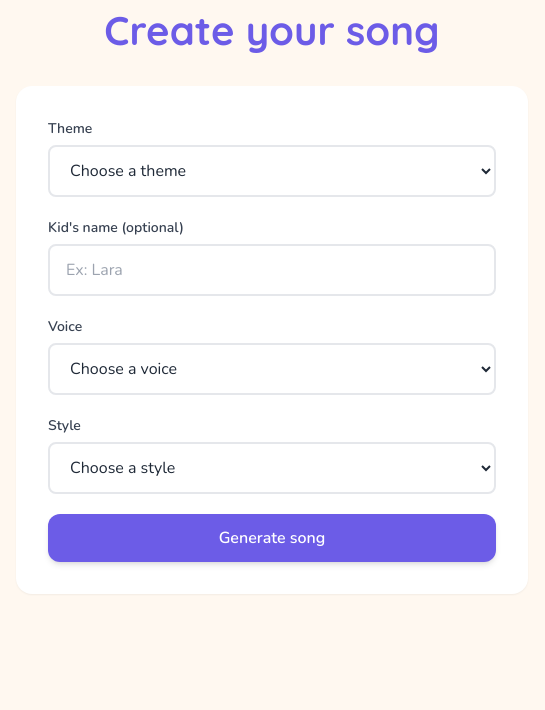
Test case: CreatePage › shows custom keyword input when theme is Custom
Step 1. Select "Custom" in the dropdown labelled "Theme" → (272, 171), box x1=48 y1=145 x2=496 y2=197
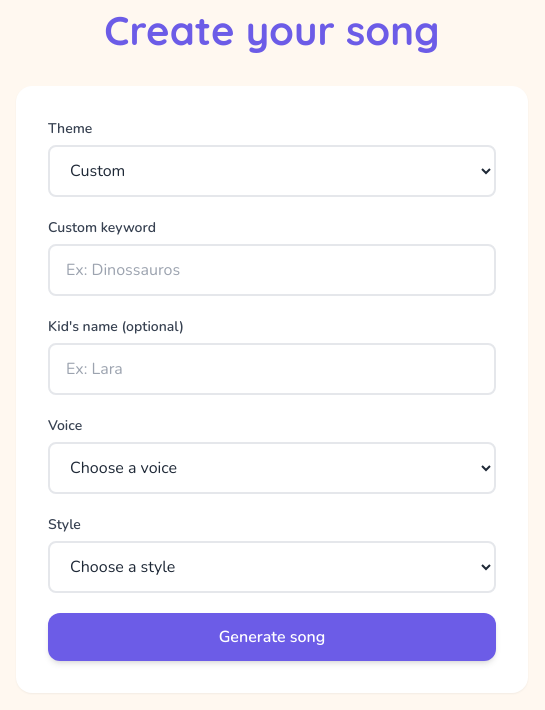
Expected: the field labelled "Custom keyword" is shown, x1=48 y1=244 x2=496 y2=296
